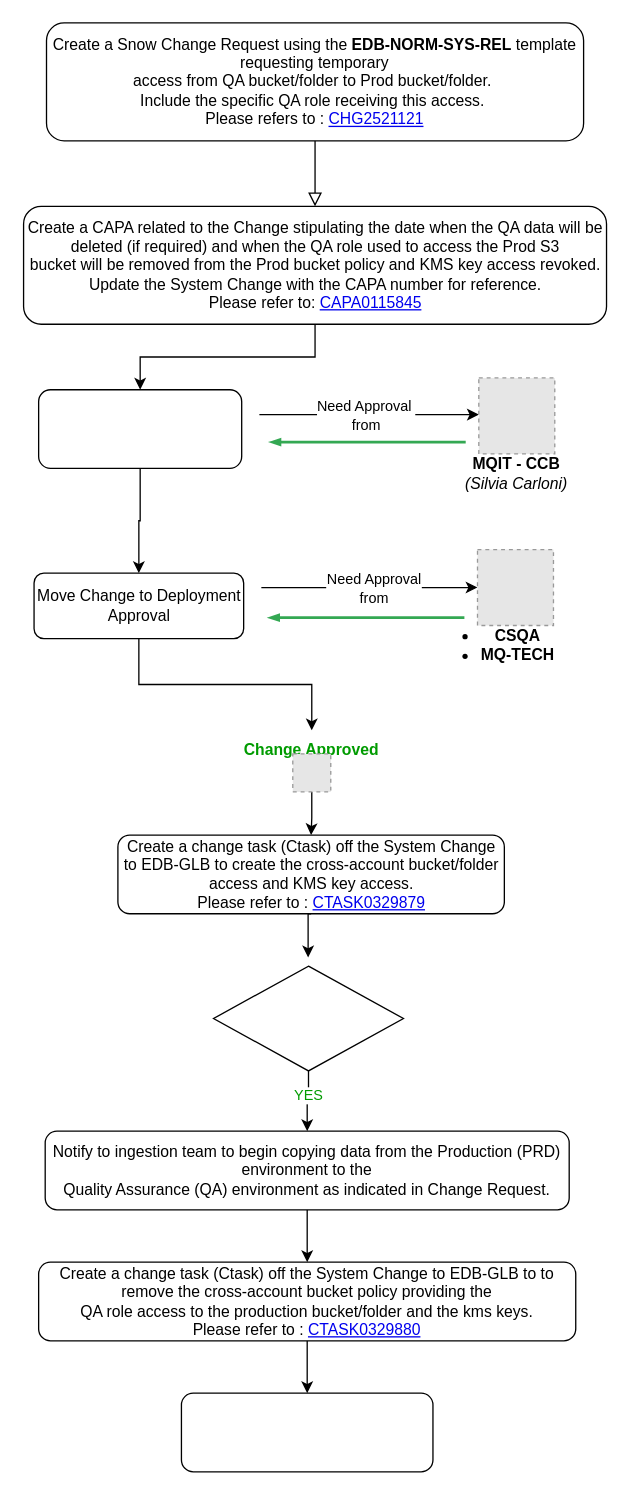
Some shapes in this 629 by 1495 pixel diagram are drawn without their labels. Grey dashed boxes stand in for pictures. Each missing label, with the centre of its shape:
"CTASK Executed ?" belongs at [307,1018].
"Ensure any production data copied back to QA for this Change has been deleted." belongs at [306,1432].
"Move Change to Development Approval" belongs at [139,428].
